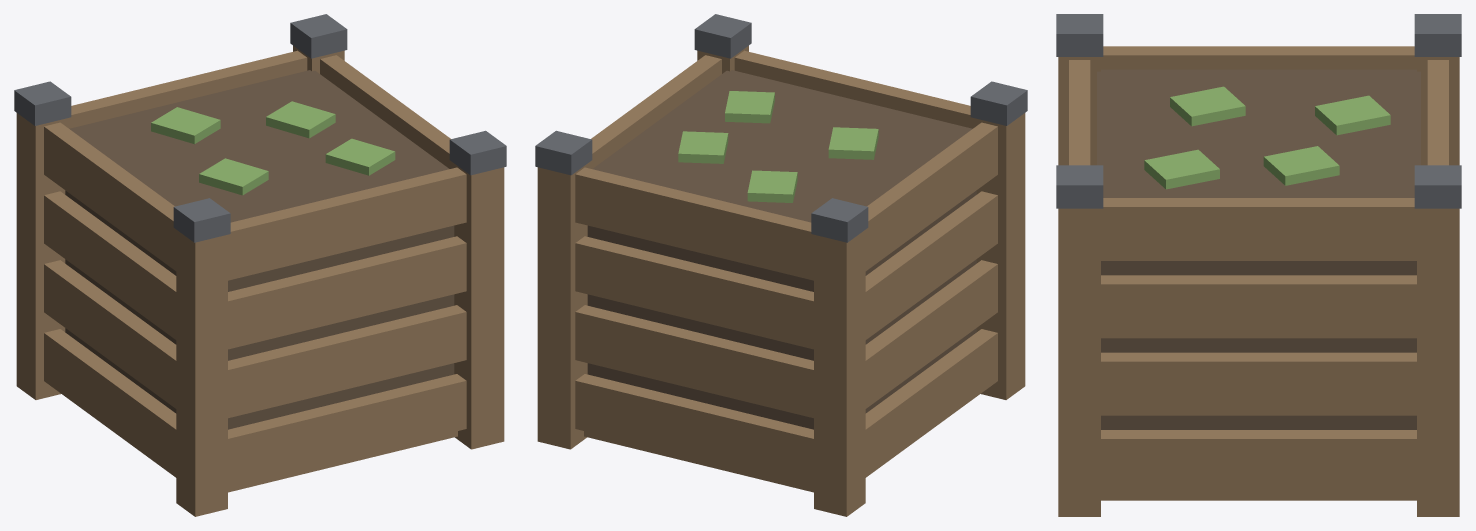
File: compost_bin.glb
3 views of the same model, side by side, from view 1: azimuth 30°, elevation 25°; view 2: azimuth 150°, elevation 25°; view 3: azimuth 270°, elevation 25° (orthographic). The views are drawn at different scales.
Parts seen in each view (by area): view 1: Cube.025, Cube, Cube.016, Cube.012, Cube.008, Cube.020, Cube.004, Cube.002, Cube.010, Cube.014, Cube.018, Cube.022 (+11 smaller); view 2: Cube.025, Cube.002, Cube.017, Cube.013, Cube.009, Cube.021, Cube.006, Cube, Cube.010, Cube.014, Cube.018, Cube.022 (+11 smaller); view 3: Cube.025, Cube.015, Cube.019, Cube.011, Cube.023, Cube.004, Cube.006, Cube.022, Cube.024, Cube.020, Cube.021, Cube.005 (+9 smaller).
Part boxes in pixels (bbox=[...]): Cube.025: bbox=[65, 70, 454, 429]; Cube: bbox=[176, 230, 227, 516]; Cube.016: bbox=[228, 236, 466, 349]; Cube.012: bbox=[228, 305, 466, 418]; Cube.008: bbox=[228, 374, 466, 486]; Cube.020: bbox=[228, 167, 466, 280]; Cube.004: bbox=[452, 162, 504, 449]; Cube.002: bbox=[16, 113, 68, 399]; Cube.010: bbox=[44, 329, 176, 477]; Cube.014: bbox=[44, 260, 176, 408]; Cube.018: bbox=[44, 191, 176, 339]; Cube.022: bbox=[44, 122, 176, 270]; Cube.025: bbox=[587, 70, 976, 429]; Cube.002: bbox=[814, 230, 865, 516]; Cube.017: bbox=[575, 236, 813, 349]; Cube.013: bbox=[575, 305, 813, 418]; Cube.009: bbox=[575, 374, 813, 486]; Cube.021: bbox=[575, 167, 813, 280]; Cube.006: bbox=[537, 162, 589, 449]; Cube: bbox=[973, 113, 1025, 399]; Cube.010: bbox=[865, 329, 997, 477]; Cube.014: bbox=[865, 260, 997, 408]; Cube.018: bbox=[865, 191, 997, 339]; Cube.022: bbox=[865, 122, 997, 270]; Cube.025: bbox=[1097, 69, 1420, 429]; Cube.015: bbox=[1101, 352, 1416, 415]; Cube.019: bbox=[1101, 275, 1416, 338]; Cube.011: bbox=[1101, 430, 1416, 492]; Cube.023: bbox=[1101, 198, 1416, 260]; Cube.004: bbox=[1058, 208, 1100, 516]; Cube.006: bbox=[1417, 208, 1459, 516]; Cube.022: bbox=[1101, 46, 1416, 69]; Cube.024: bbox=[1101, 493, 1416, 500]; Cube.020: bbox=[1069, 60, 1090, 165]; Cube.021: bbox=[1427, 60, 1448, 165]; Cube.005: bbox=[1056, 165, 1103, 208].
Bounding box in the file's own units: 0.95 × 0.86 × 0.95.
